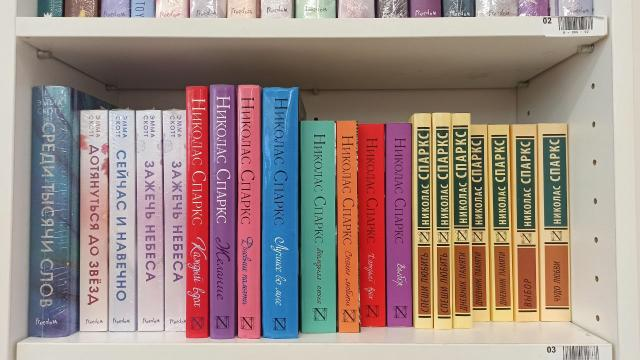book-s-spine: (29, 87, 71, 337), (264, 87, 298, 338), (301, 121, 336, 333), (539, 124, 571, 321), (210, 85, 234, 339), (80, 110, 107, 332), (136, 111, 163, 331), (238, 85, 260, 338), (109, 111, 134, 331), (186, 87, 208, 337), (359, 124, 385, 327), (513, 125, 539, 322), (163, 110, 186, 332), (387, 123, 412, 327), (488, 125, 513, 321), (337, 121, 359, 332), (452, 114, 472, 328), (414, 114, 433, 329), (433, 113, 452, 328), (471, 125, 490, 321)
